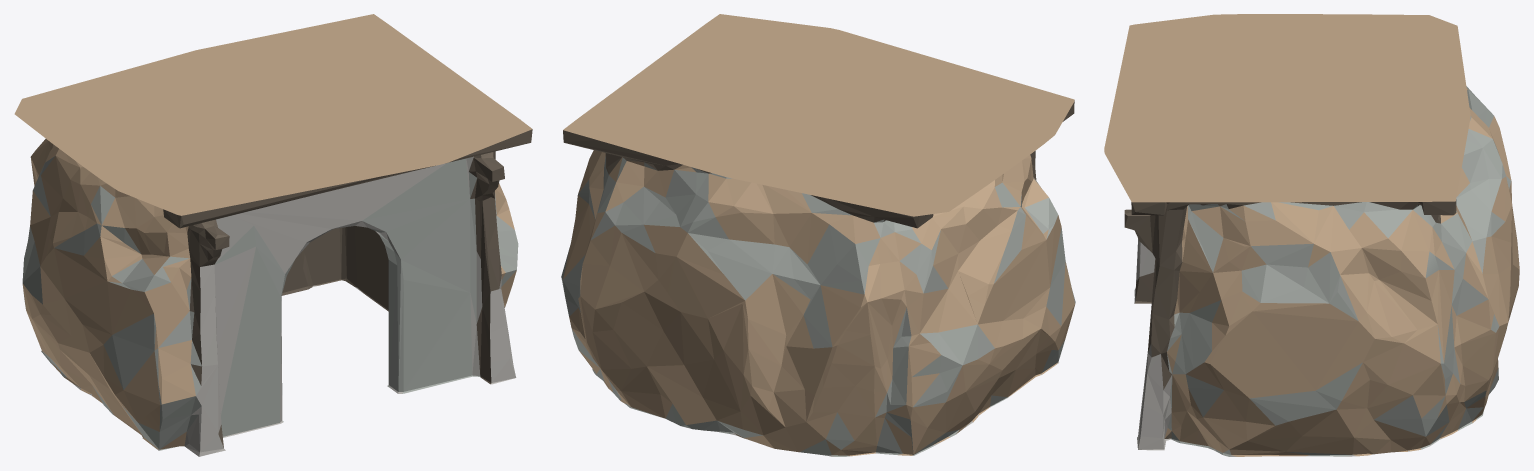
File: etape-1.glb
The picture shows the model from 3 angles, left to right: view 1: azimuth 30°, elevation 25°; view 2: azimuth 150°, elevation 25°; view 3: azimuth 270°, elevation 25°; orthographic projection. The views are drawn at different scales.
Visible parts, largest first — view 1: geometry_0; view 2: geometry_0; view 3: geometry_0.
Boxes of the visible parts, x1,y1,x2,y2 form: geometry_0: (14, 14, 532, 456); geometry_0: (561, 14, 1075, 456); geometry_0: (1104, 14, 1519, 456).
Bounding box in the file's own units: 0.9997 × 0.5851 × 0.8659.
